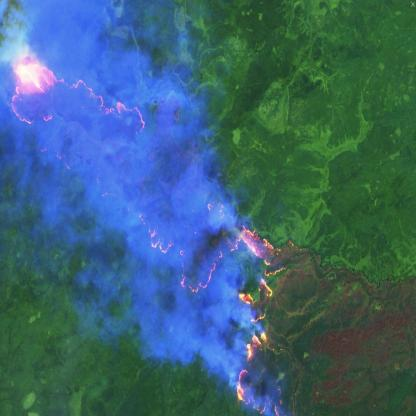fire: (136, 192, 289, 416), (8, 51, 147, 145)
